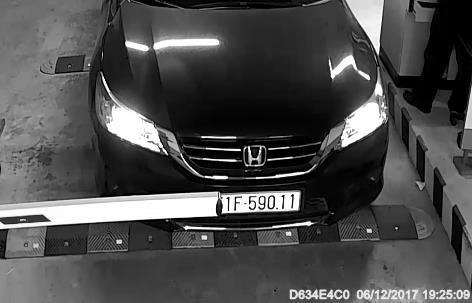License-plate: (193, 184, 305, 219)
